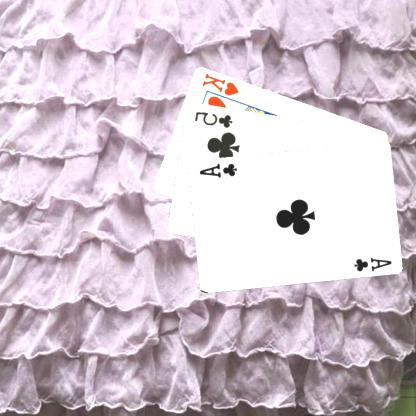5C: (193, 109, 235, 129)
AC: (198, 160, 240, 178), (353, 254, 394, 272)
KH: (201, 70, 242, 97)
